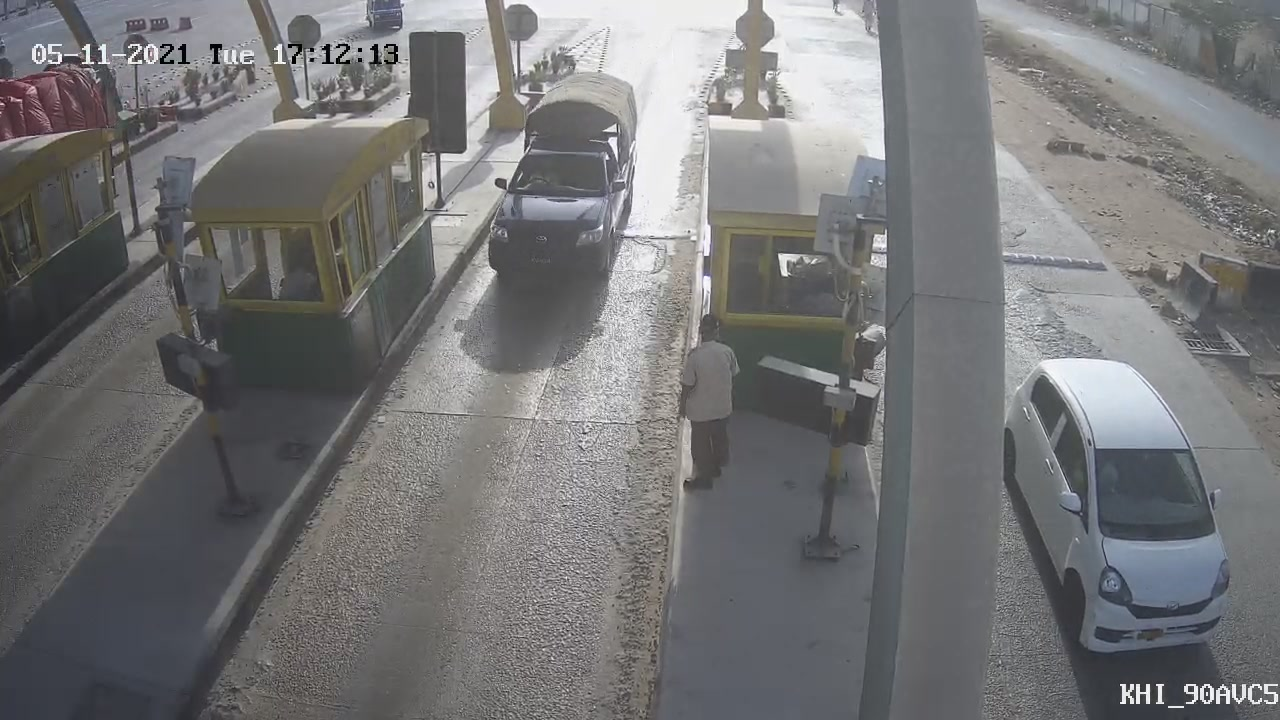F1: (466, 59, 655, 301)
